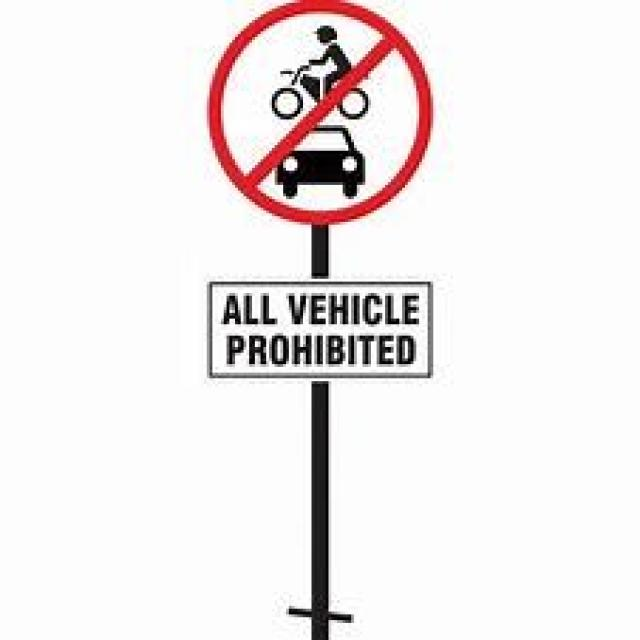ALL_MOTOR_VEHICLE_PROHIBITED: (182, 0, 450, 240)
